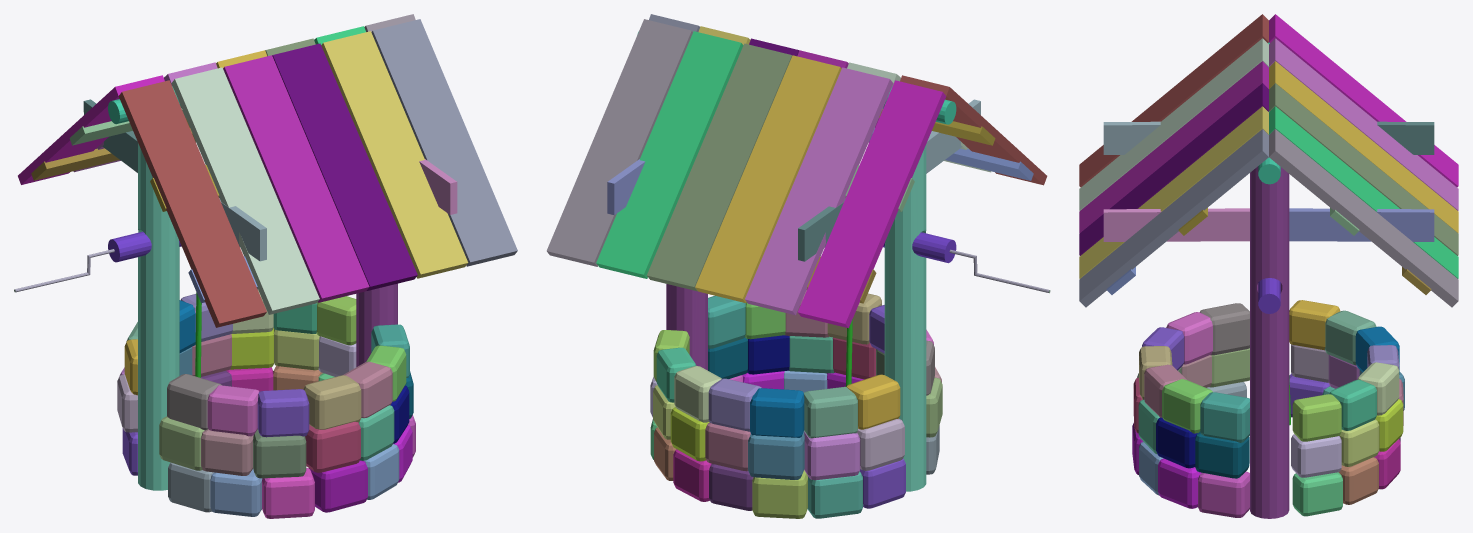
The picture shows the model from 3 angles, left to right: view 1: azimuth 30°, elevation 25°; view 2: azimuth 150°, elevation 25°; view 3: azimuth 270°, elevation 25°; orthographic projection. The views are drawn at different scales.
Visible parts, largest first — view 1: world; view 2: world; view 3: world.
Boxes of the visible parts, x1,y1,x2,y2 form: world: (14,14,517,518); world: (546,14,1050,518); world: (1079,14,1458,518).
Size of the model in its own units: 2 by 1.91 by 1.72.
